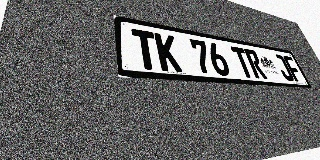6: (205, 42, 232, 76)
7: (188, 39, 215, 75)
F: (282, 55, 304, 82)
J: (272, 54, 295, 81)
K: (154, 32, 183, 72)
R: (243, 48, 268, 79)
T: (131, 28, 160, 71), (230, 46, 255, 78)
